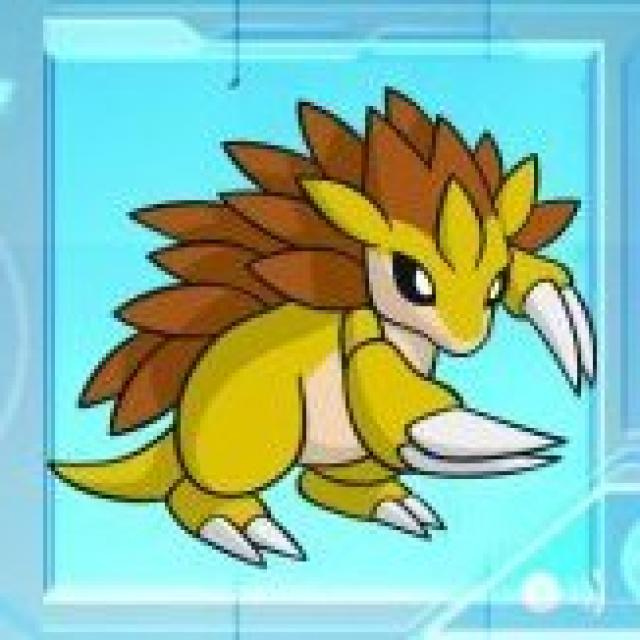Sandslash: (168, 108, 595, 562)
